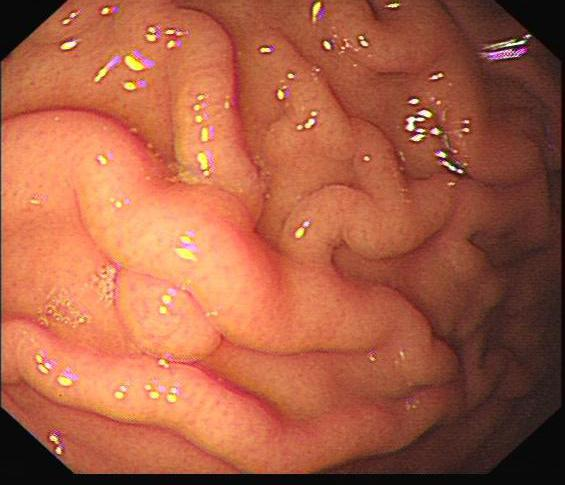Polyp: (113, 268, 227, 364)
